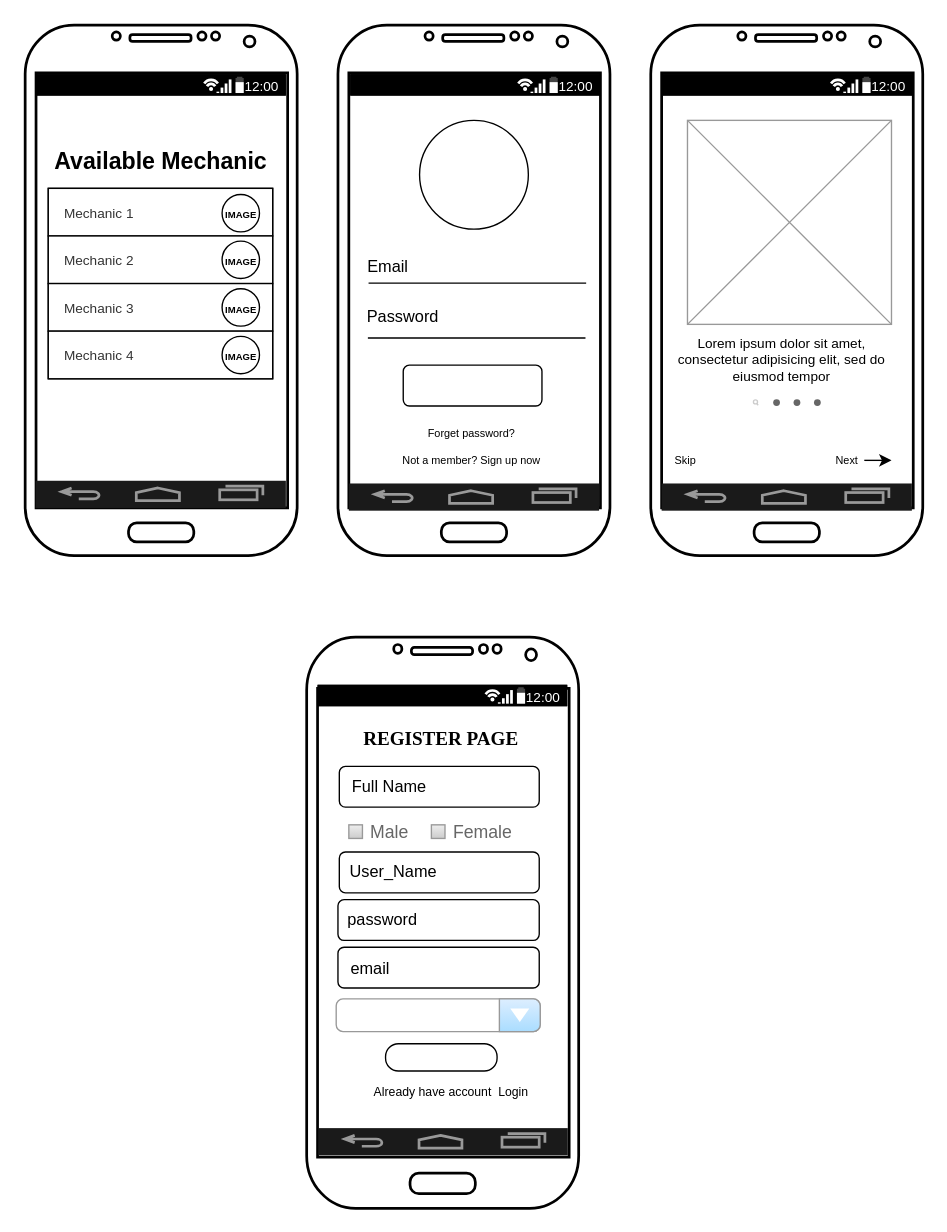
Image size: 947x1232. Some labels were removed from this diagram. Each missing label, with the centre of its shape:
Login: (472,385)
LOGO: (473,174)
Sign Up: (440,1056)
User_type: (437,1015)
